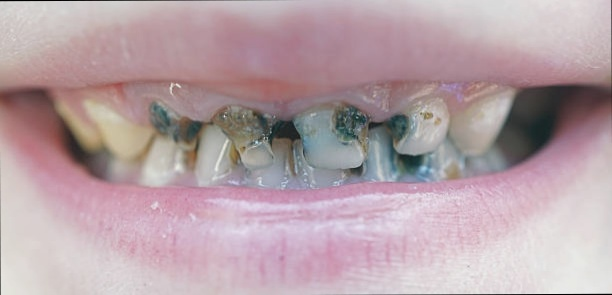Caries: (210, 96, 281, 173), (140, 94, 211, 160), (328, 98, 374, 148), (387, 106, 418, 146)
